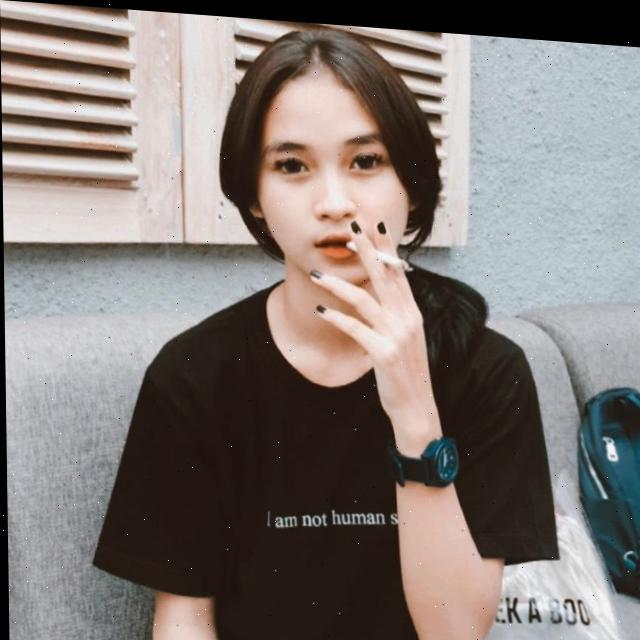cigarette: (344, 234, 413, 265)
